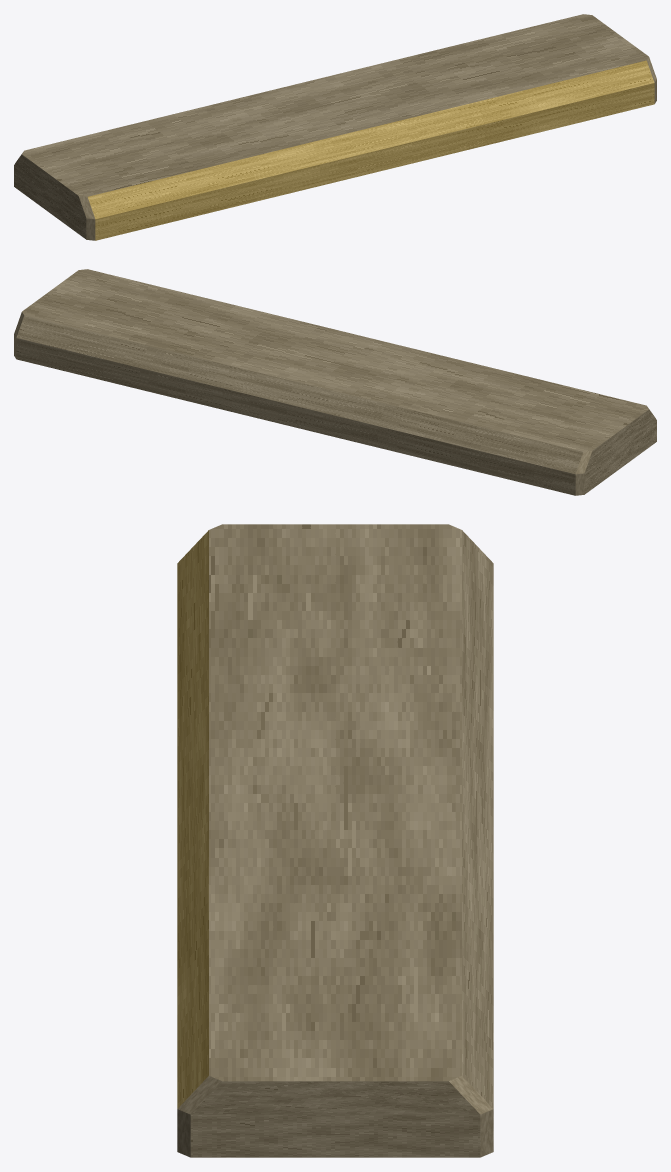
Rendered from curb.glb.
3 views of the same model, one above another, from view 1: azimuth 30°, elevation 25°; view 2: azimuth 150°, elevation 25°; view 3: azimuth 270°, elevation 25° (orthographic). The views are drawn at different scales.
Parts seen in each view (by area): view 1: Body; view 2: Body; view 3: Body.
Boxes of the visible parts, x1=… form: Body: x1=14, y1=14, x2=656, y2=240; Body: x1=14, y1=269, x2=656, y2=495; Body: x1=177, y1=524, x2=493, y2=1157.
Bounding box in the file's own units: 2.5 × 0.16 × 0.6.
1 material, 1 textured.
